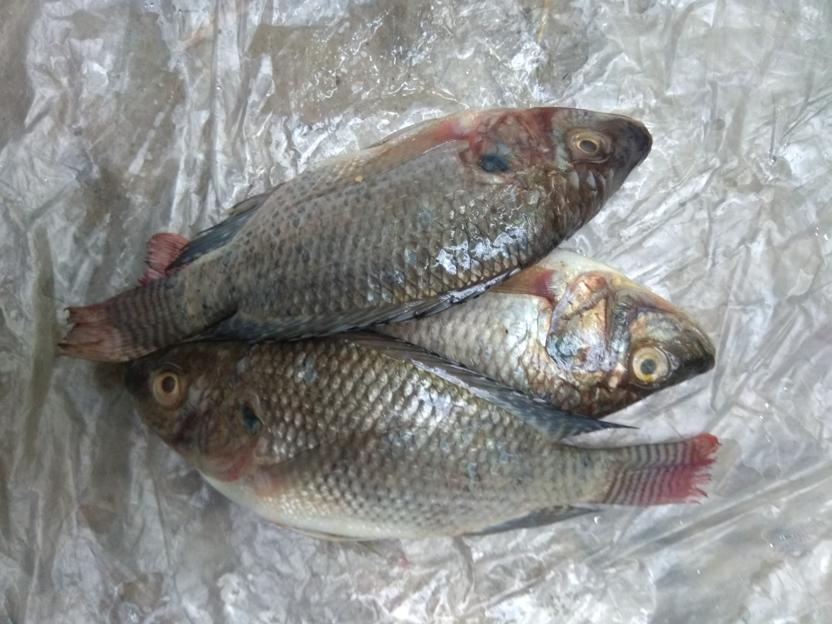Fish head: (547, 268, 717, 421), (471, 107, 655, 224), (121, 340, 262, 486)
Fish tail: (49, 268, 195, 363), (592, 432, 723, 508)
